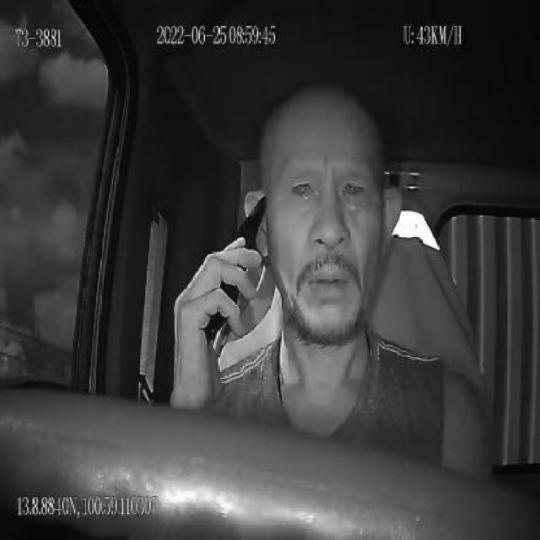phone: (205, 196, 269, 346)
